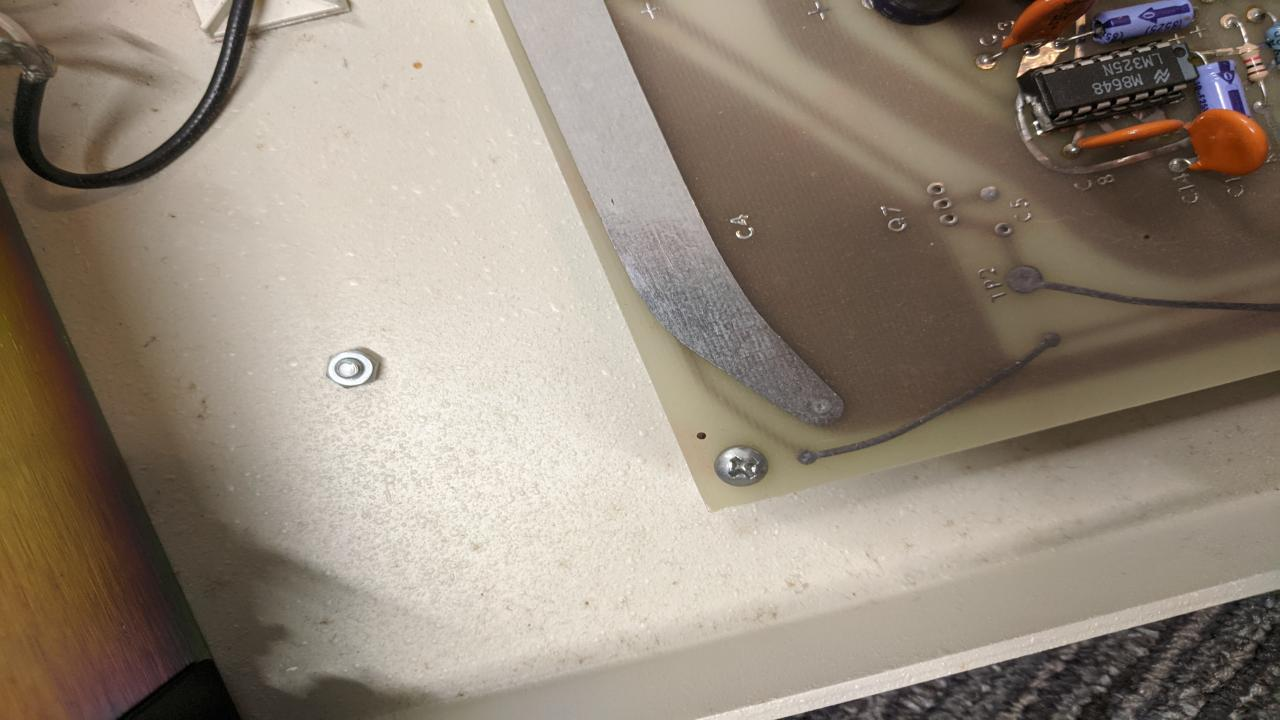CRS: (714, 445, 772, 486)
